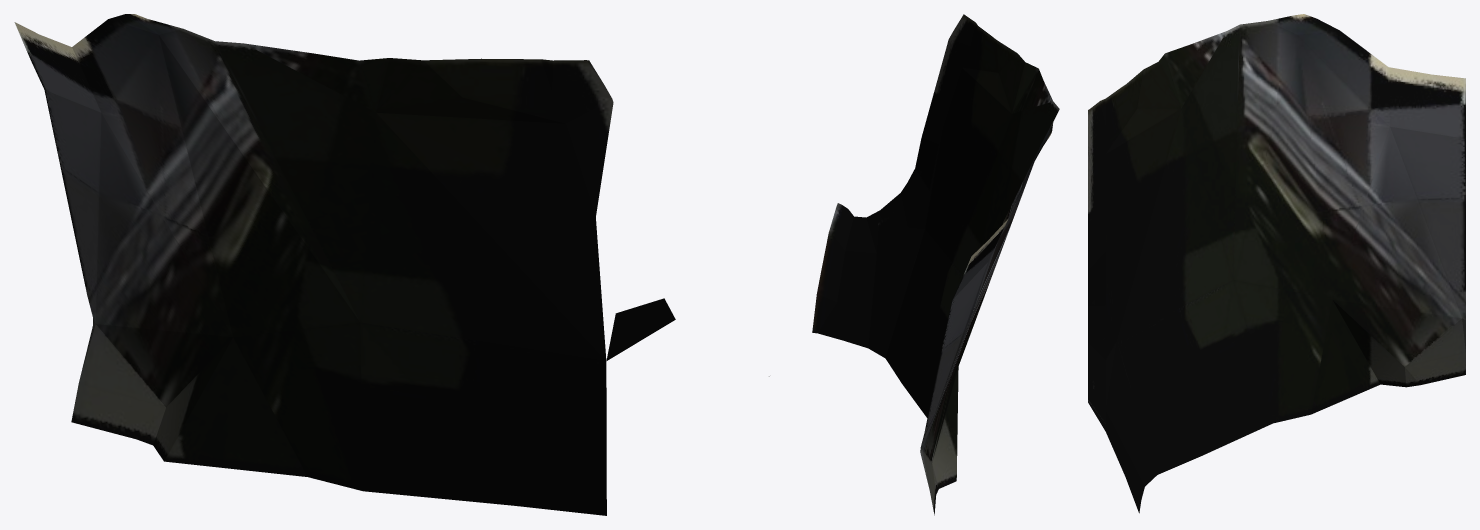
3 views of the same model, side by side, from view 1: azimuth 30°, elevation 25°; view 2: azimuth 150°, elevation 25°; view 3: azimuth 270°, elevation 25° (orthographic). The views are drawn at different scales.
Size of the model in its own units: 3.35 by 3.35 by 3.35.
3 materials, 3 textured.
